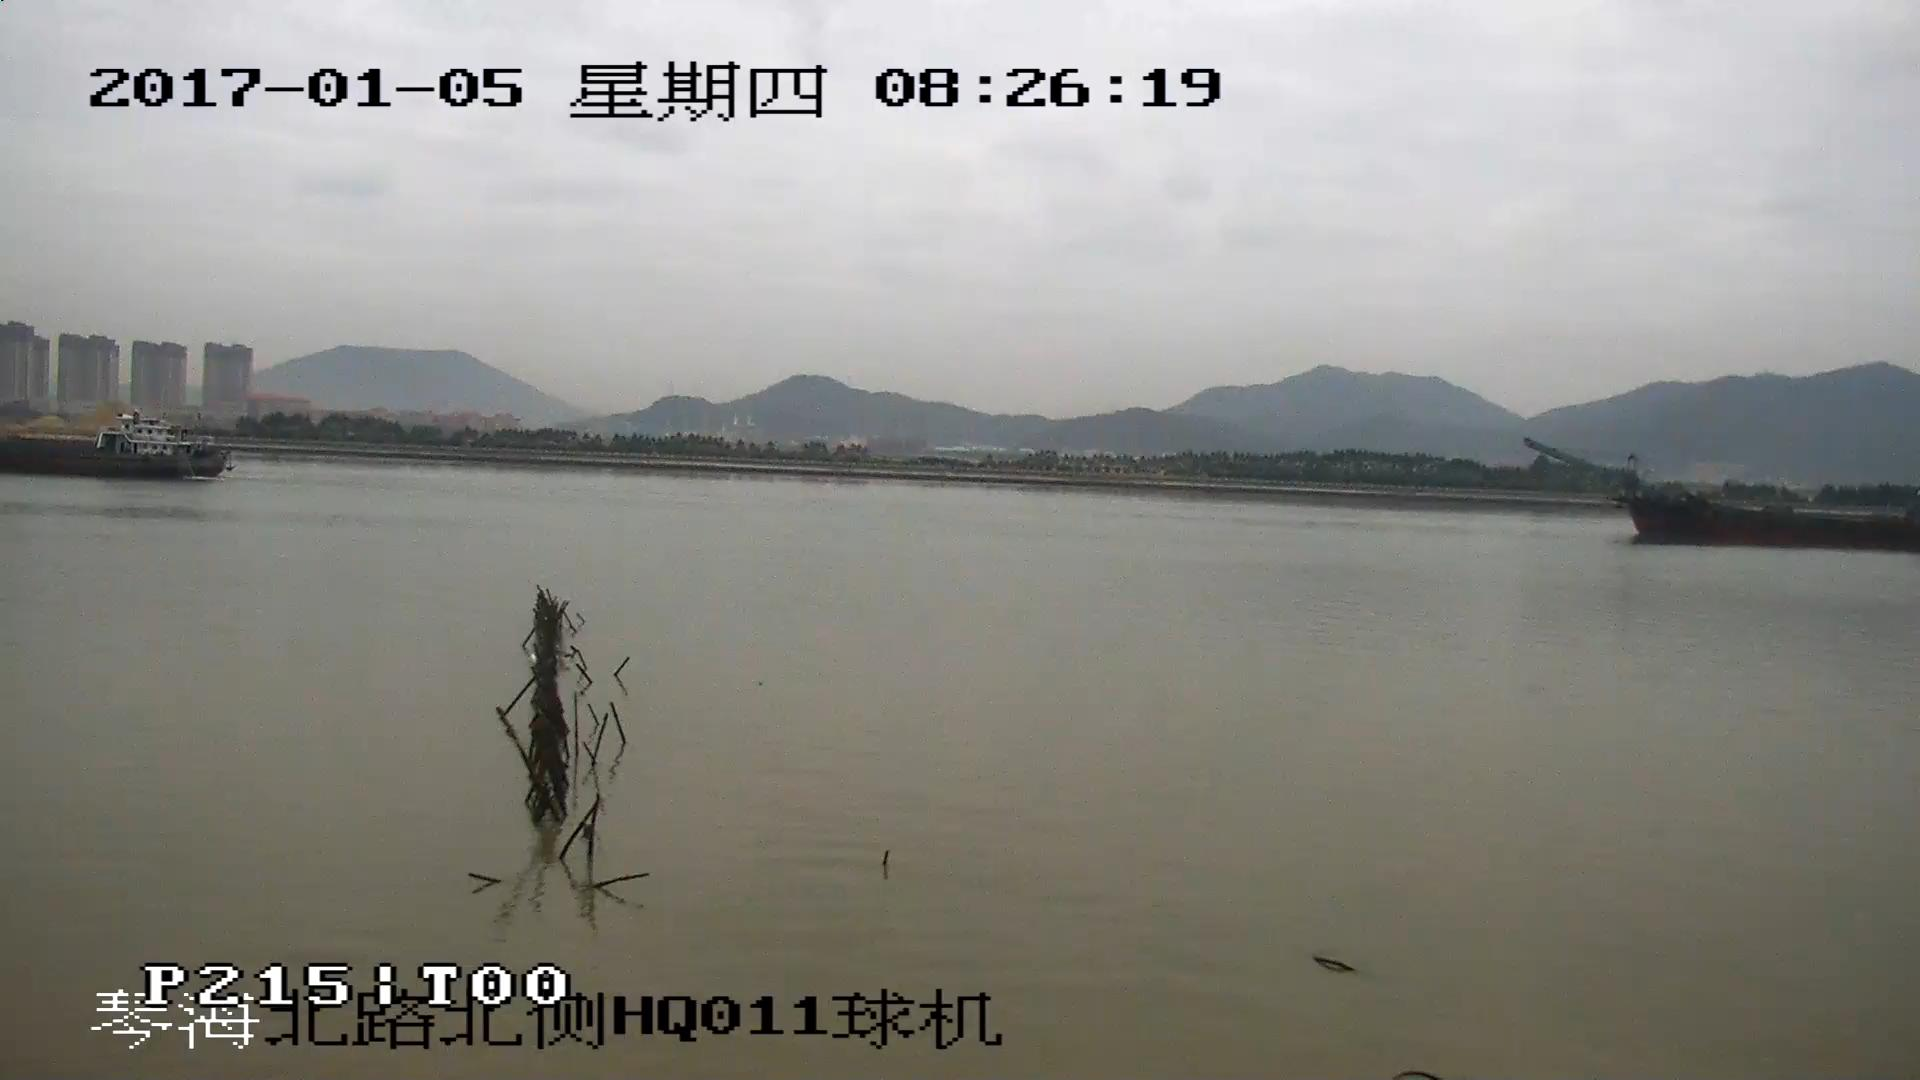bulk cargo carrier: (1518, 435, 1920, 546), (1, 409, 235, 482)
